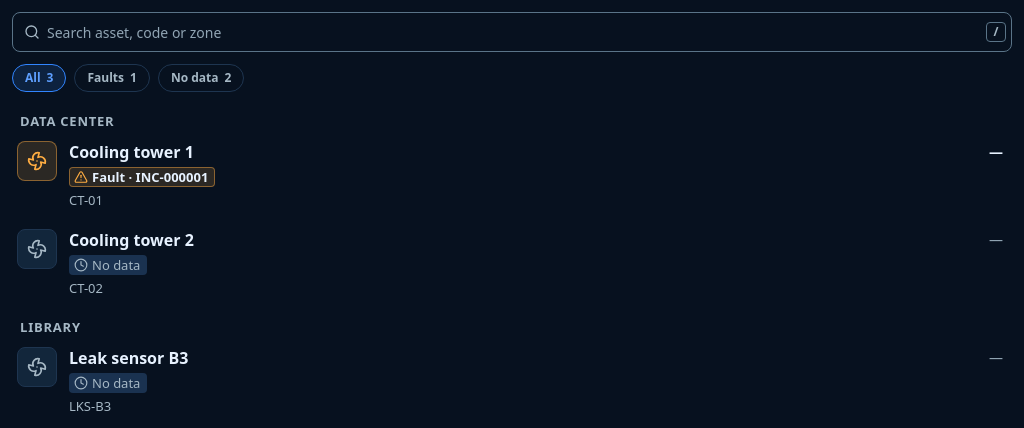
Test: AssetFeed › when nothing is left to list › says which search matched nothing
The image size is (1024, 428).
In the search field named "Search assets": (512, 32) [12,12,1012,52], type "zzz"
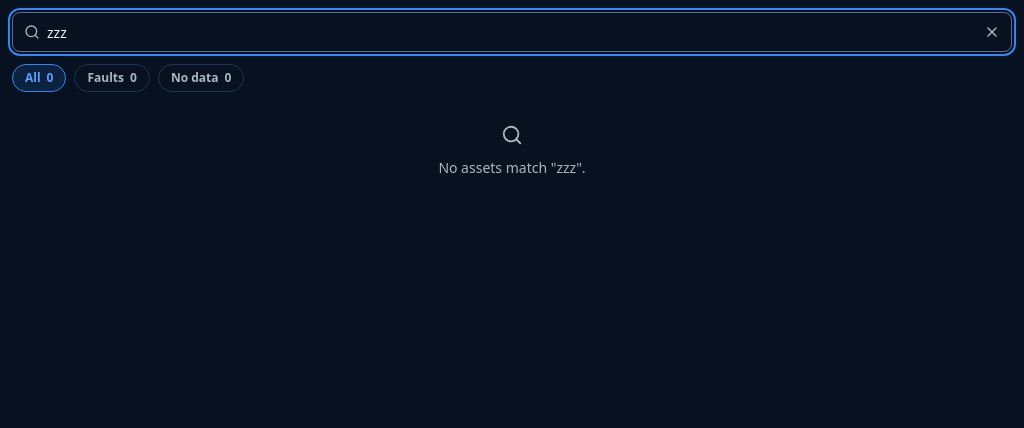
Expected: the text "No assets match \"zzz\"." is shown, [438,158,586,178]
